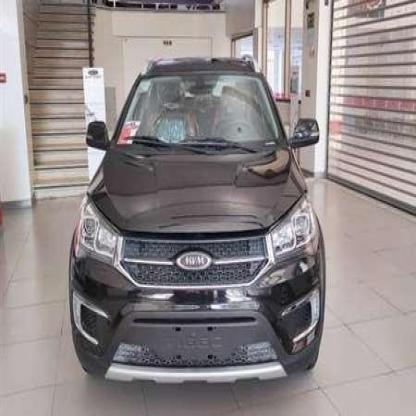Car: (64, 54, 324, 386)
